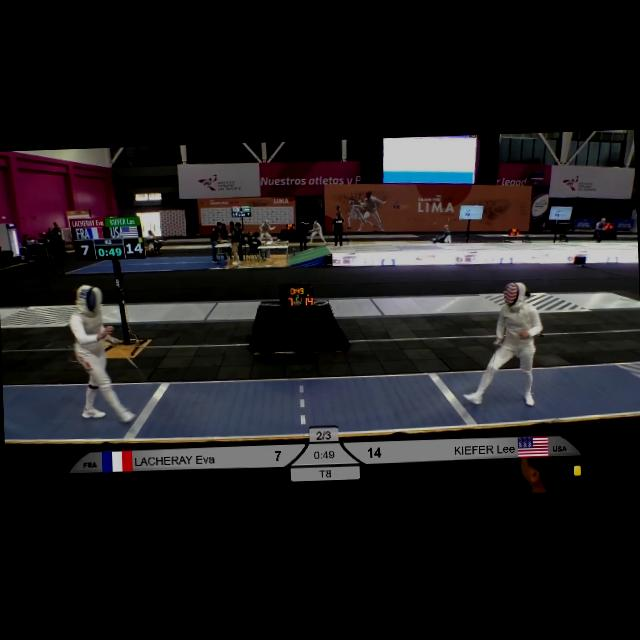blade: (110, 336, 151, 385), (482, 339, 506, 393)
